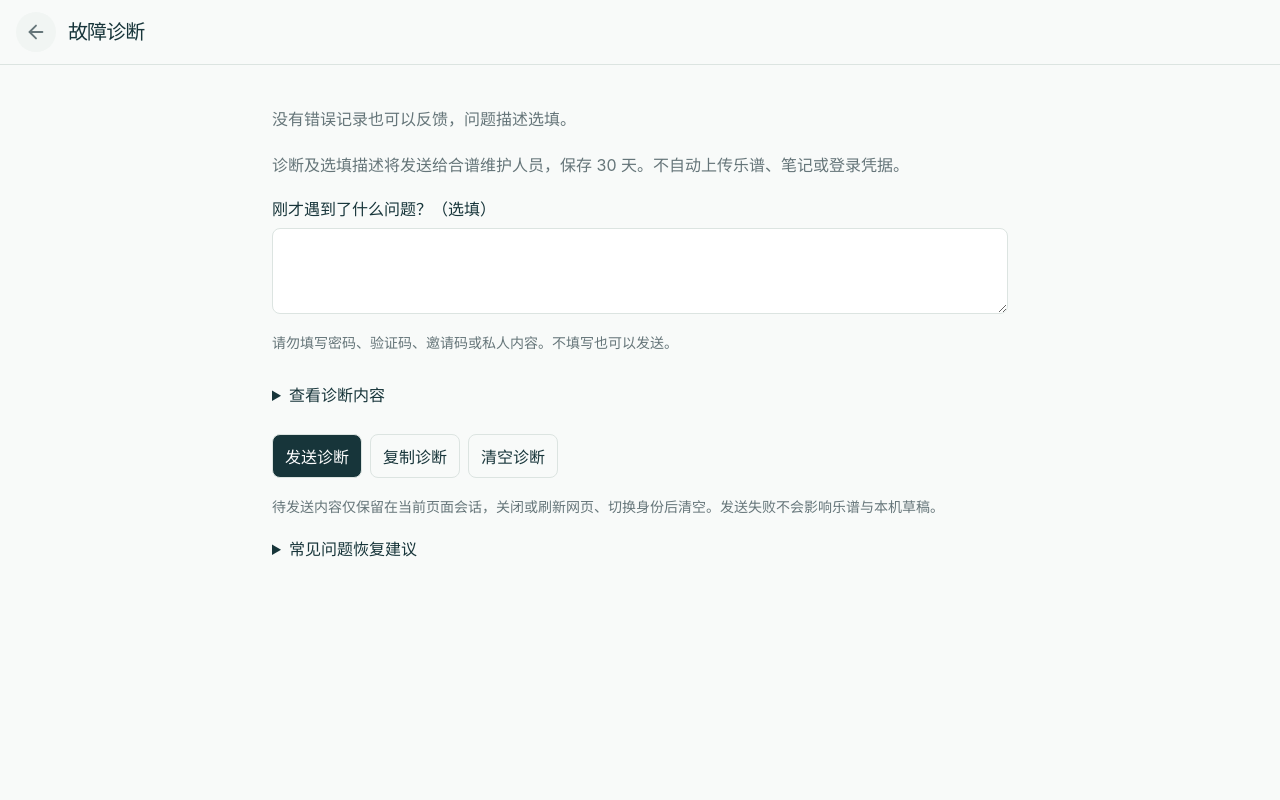
Scenario: lets the user inspect and clear a safe report without touching drafts
Click the button "清空诊断": (513, 456) [468,434,558,478]
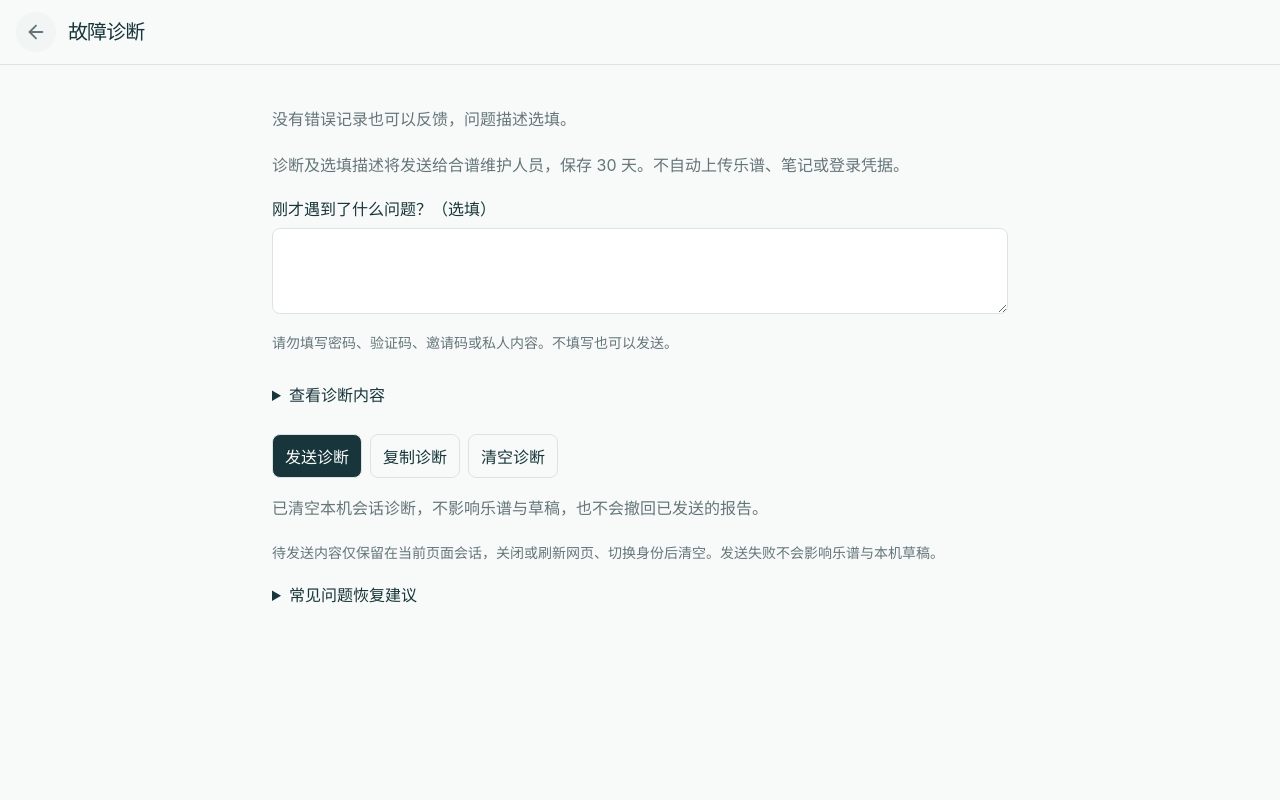
expect the message shows "不影响乐谱与草稿": met, box [272,498,768,518]
